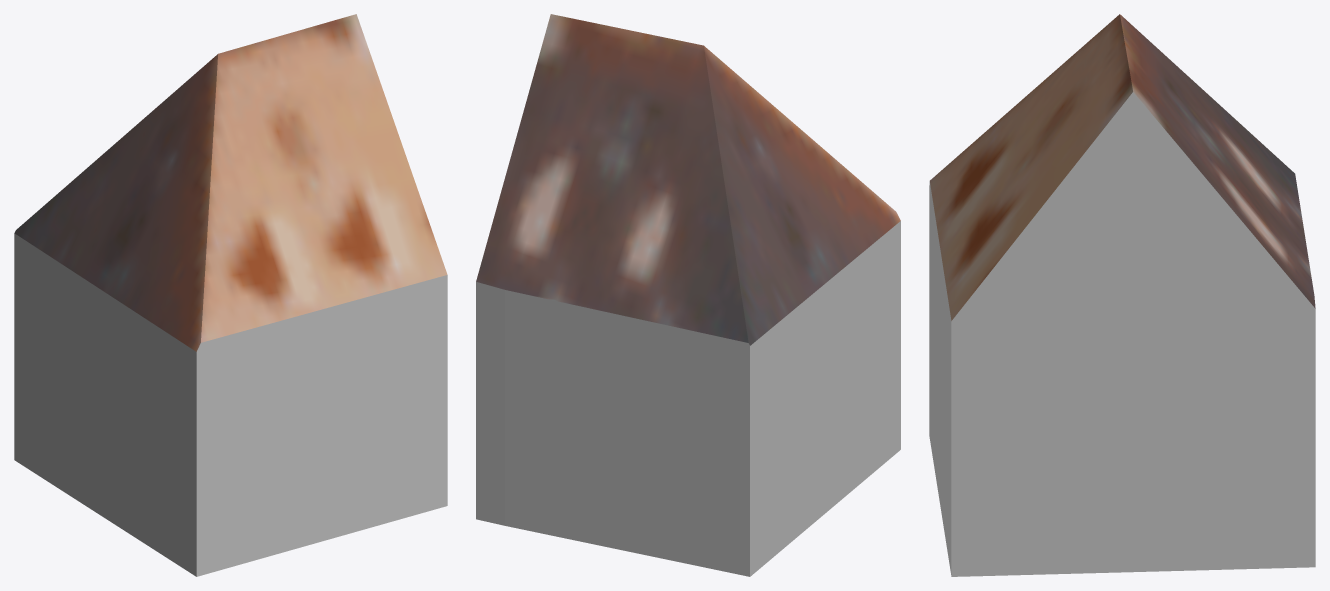
File: DEBW_0010007Txcf.gltf
The picture shows the model from 3 angles, left to right: view 1: azimuth 30°, elevation 25°; view 2: azimuth 150°, elevation 25°; view 3: azimuth 270°, elevation 25°; orthographic projection. The views are drawn at different scales.
Parts seen in each view (by area): view 1: Z_UP; view 2: Z_UP; view 3: Z_UP.
Part boxes in pixels (left/top/right/bottom): Z_UP: left=14, top=14, right=447, bottom=576; Z_UP: left=476, top=14, right=900, bottom=576; Z_UP: left=929, top=14, right=1315, bottom=576.
Size of the model in its own units: 9.16 by 13.67 by 9.96.
Materials: 2 (1 with a texture image).
